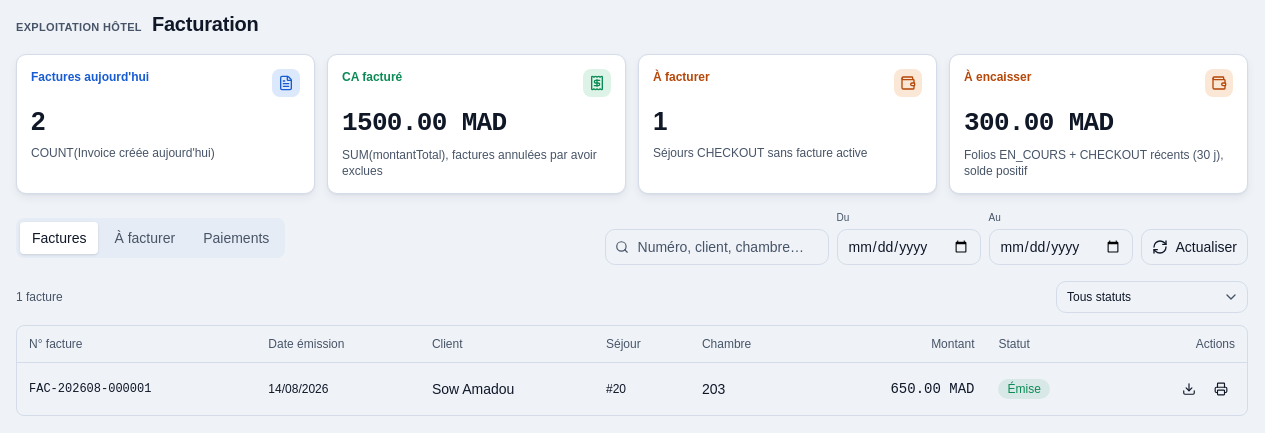
BillingPage — onglets, KPI, recherche, RBAC › bascule vers l’onglet À facturer et affiche les séjours facturables
expect the text "FAC-202608-000001" is shown: met, box [17,362,256,414]
Click the tab "À facturer". click: (145,238)
box: [102,222,187,254]
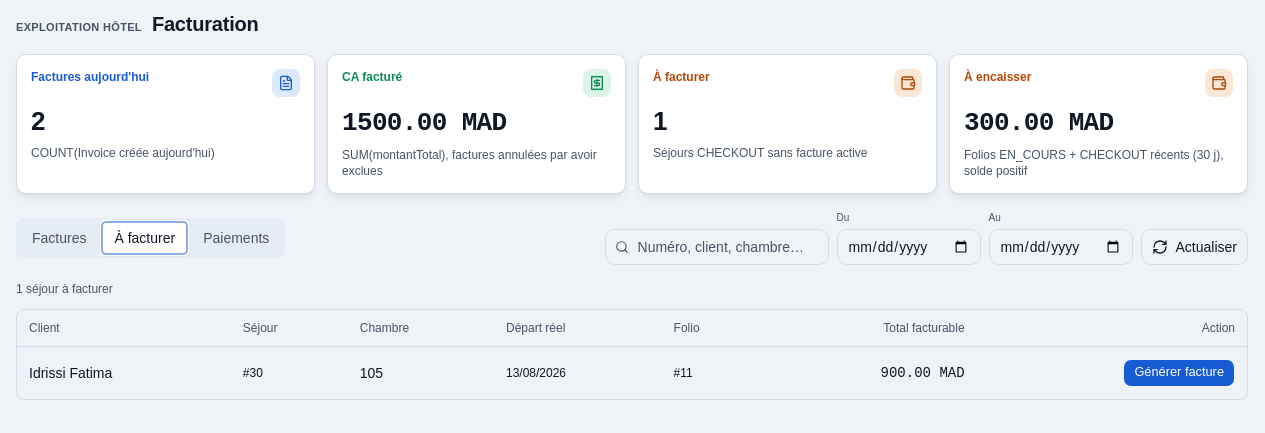
expect the text "Idrissi Fatima" is shown: met, box [17,346,231,398]
expect the button "Générer facture" is enabled: met, box [1123,358,1235,386]
